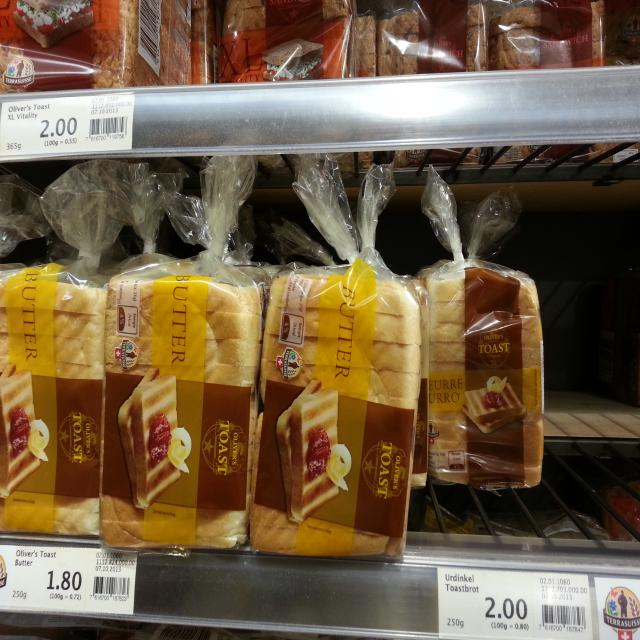Bakery: (242, 261, 425, 562), (106, 248, 256, 556), (415, 274, 553, 488), (0, 279, 108, 540), (0, 0, 197, 88), (219, 0, 361, 80), (377, 2, 488, 79), (492, 0, 610, 66)
